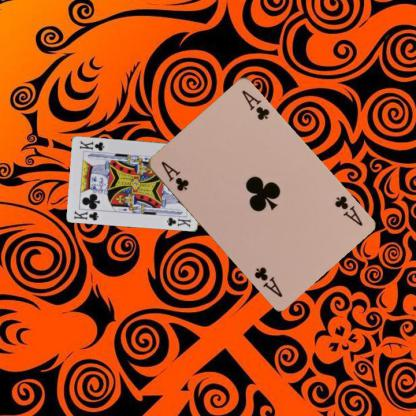Ac: (158, 158, 190, 193), (332, 193, 364, 228)
Kc: (72, 208, 100, 221)
